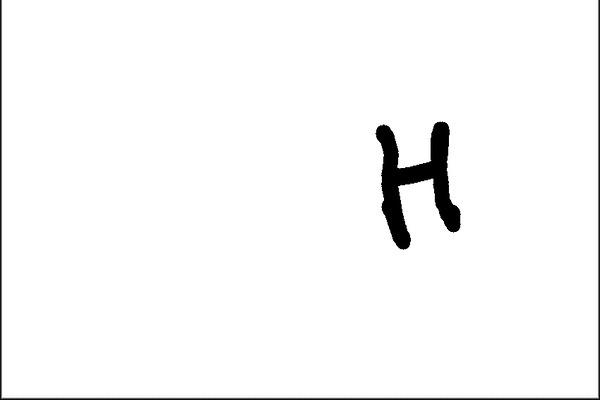H: (369, 112, 466, 250)
